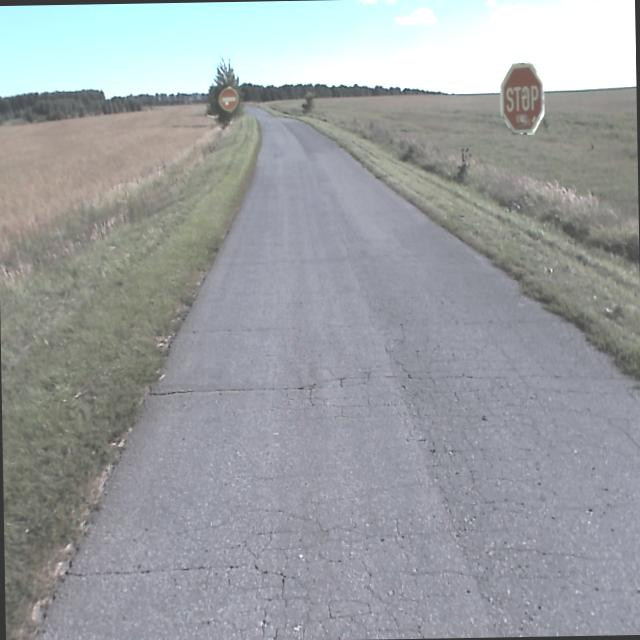road: (37, 117, 640, 640)
